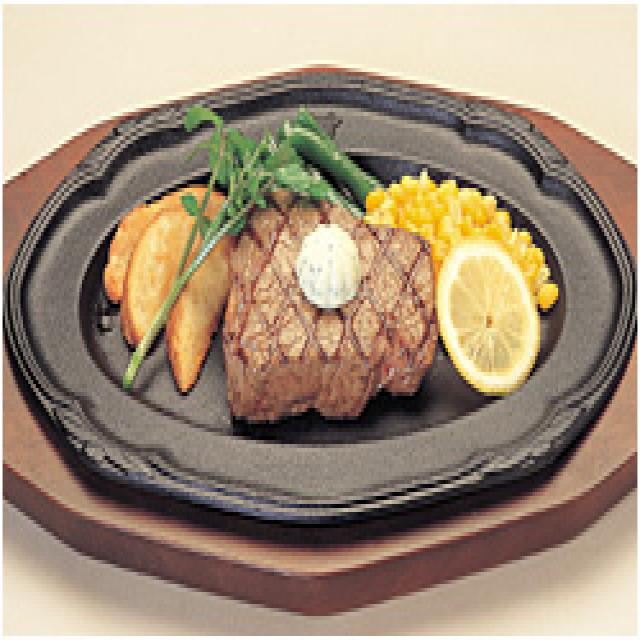牛肉菜式: (218, 184, 438, 432)
